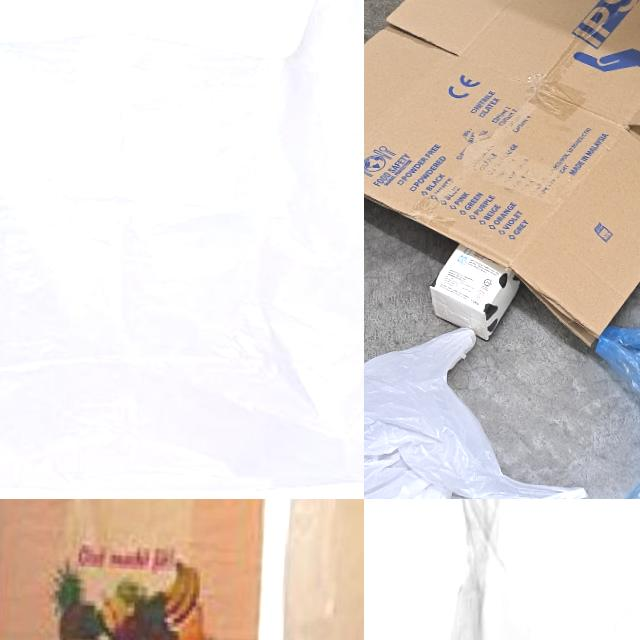caixinha: (424, 240, 523, 342)
papelão: (364, 0, 640, 358)
sacola plástica: (0, 0, 364, 499), (364, 318, 597, 499), (0, 499, 283, 640), (421, 499, 640, 640), (263, 499, 364, 640), (578, 314, 640, 499)
